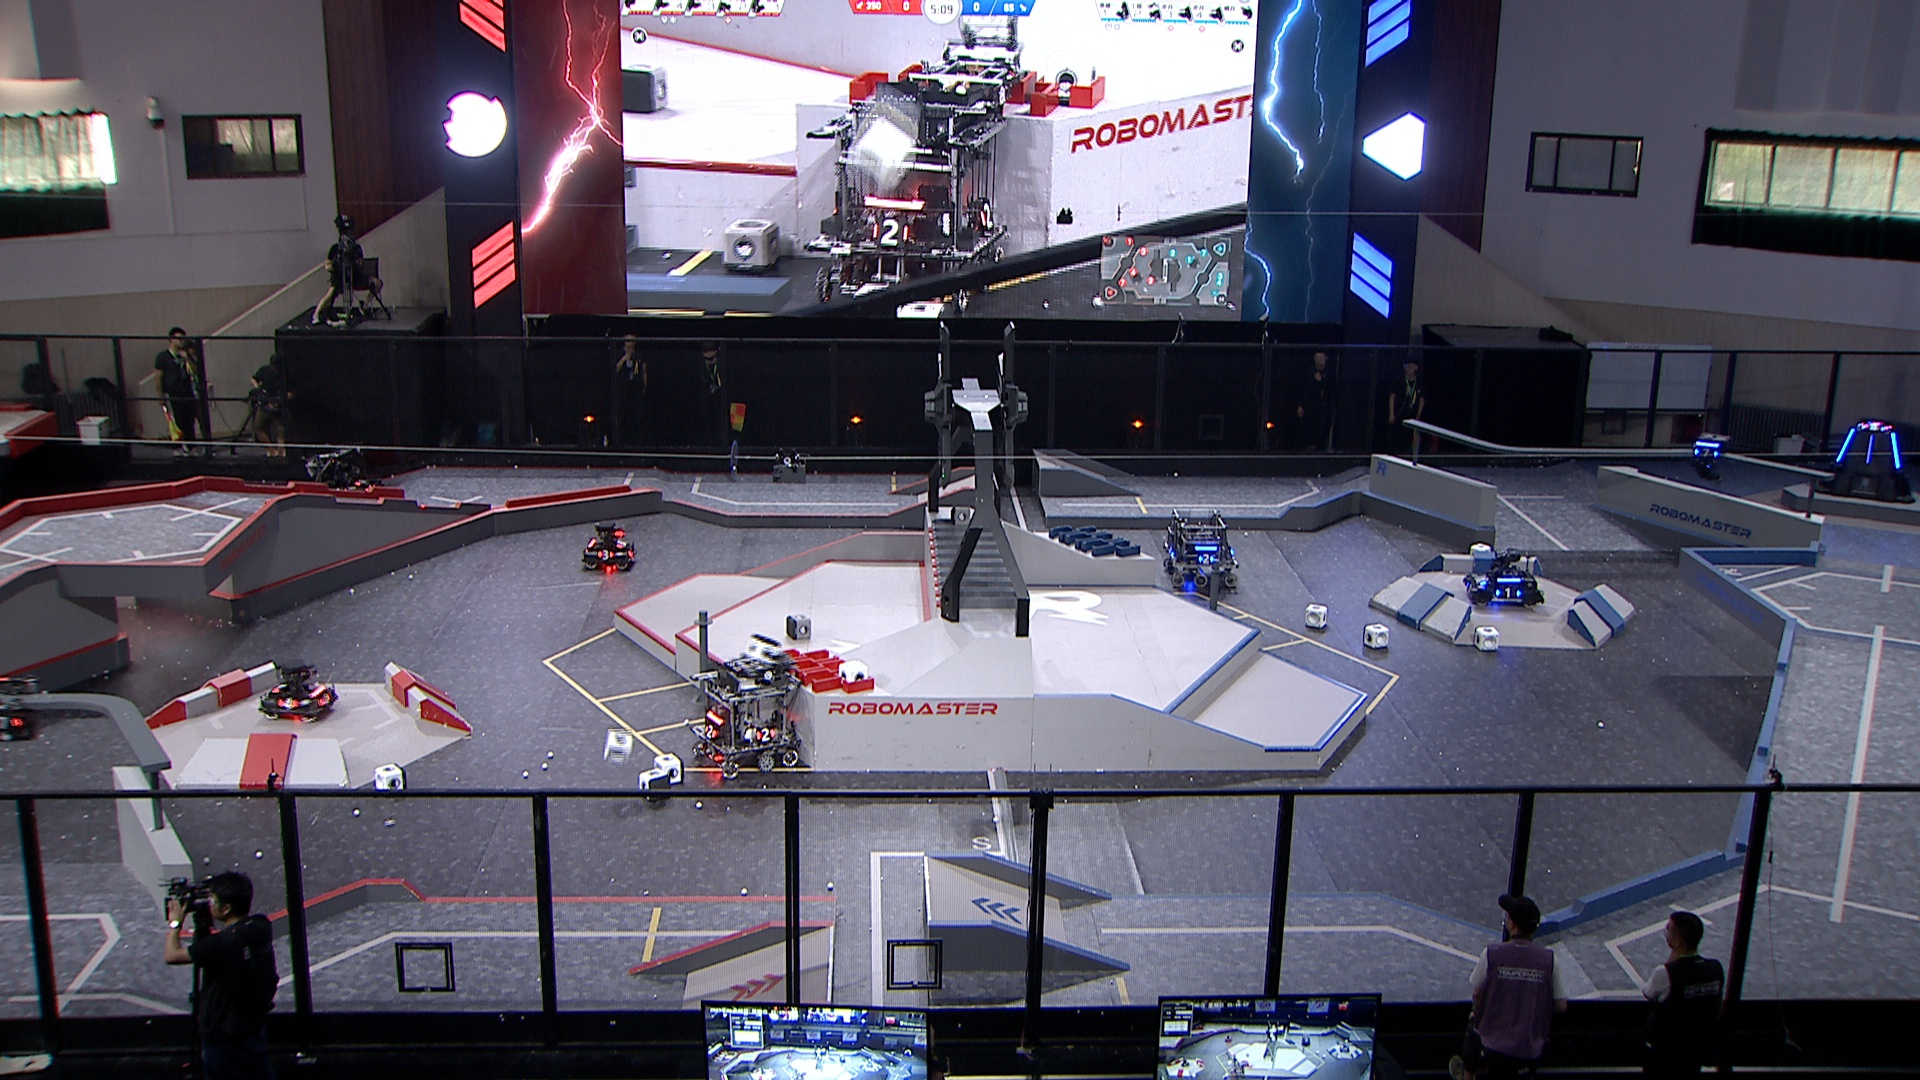armor: (1833, 425, 1855, 463), (1888, 429, 1902, 469), (1493, 585, 1523, 599), (1692, 447, 1721, 460), (752, 727, 775, 742), (277, 695, 299, 711), (702, 723, 717, 742), (595, 547, 615, 562), (1865, 433, 1874, 463), (316, 692, 334, 708), (269, 680, 287, 695), (1197, 553, 1215, 564), (353, 476, 371, 488), (1465, 579, 1476, 597), (613, 538, 628, 550)
base: (1812, 418, 1917, 504)
car: (683, 657, 803, 778), (1160, 510, 1242, 593), (253, 659, 343, 723), (1462, 547, 1543, 611), (305, 447, 384, 501), (578, 520, 638, 572)
ignore: (799, 40, 1021, 306), (1171, 135, 1204, 161), (1859, 422, 1887, 433)
watcher: (1688, 433, 1724, 484)
